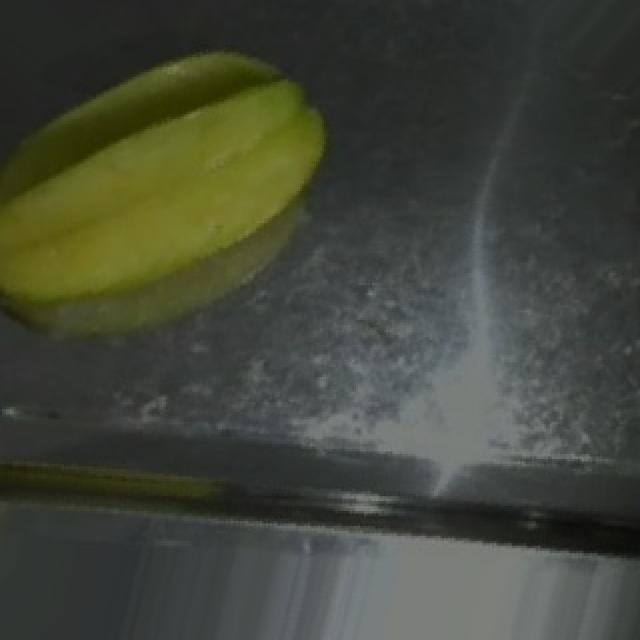fruit: (6, 12, 356, 355)
